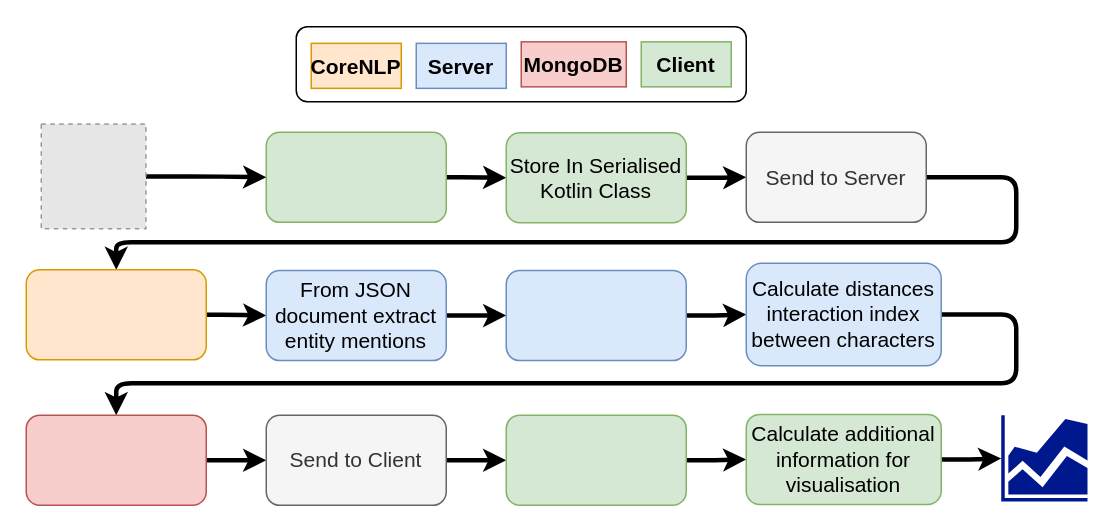
Some shapes in this 1113 by 531 pixel diagram are drawn without their labels. Grey dashed boxes stand in for pictures. Each missing label, with the centre of its shape:
"Process with CoreNLP" goes at (115,314).
"Remove HTML Tags with JSOUP" goes at (355,176).
"Split Entity mentions by chapter" goes at (595,315).
"Store in MongoDB" goes at (115,459).
"Update Local Store with Processed Data" goes at (595,459).
